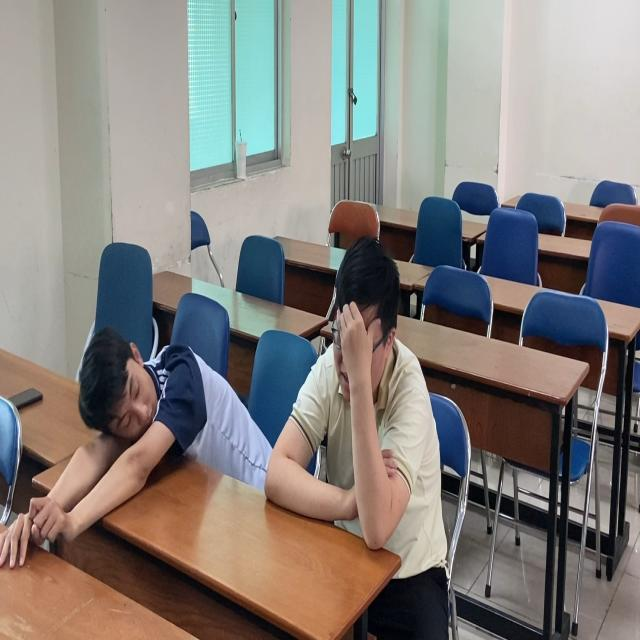sleep: (4, 323, 248, 508)
